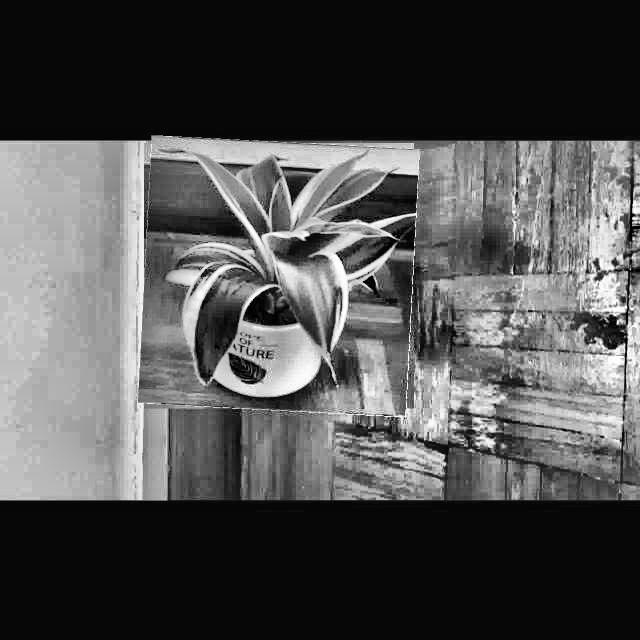plants: (142, 138, 416, 413)
